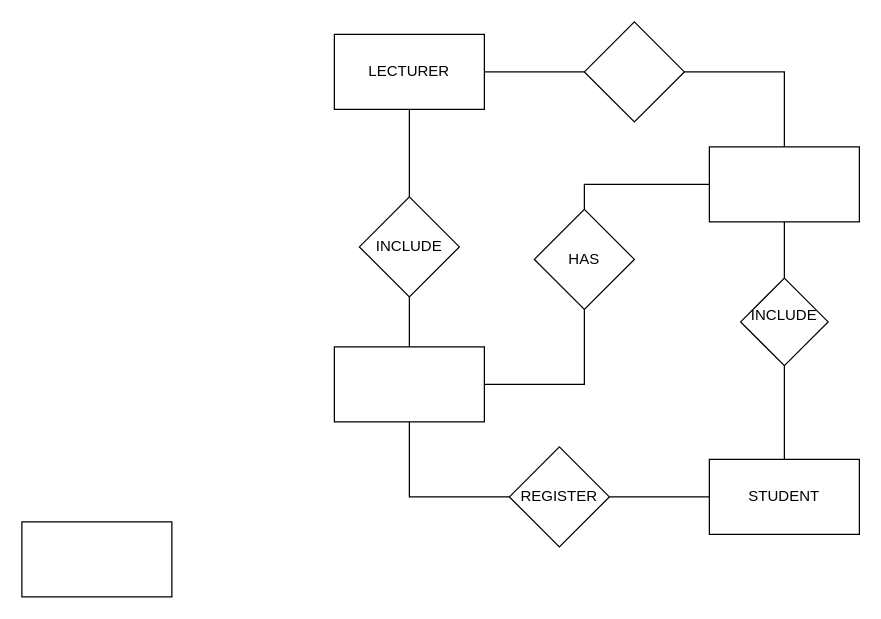
Some shapes in this 881 by 619 pixel diagram are drawn without their labels. The box of each missing label's shape, as (x1, y1, x2, y2) in pixels:
COUSE: (333, 346, 484, 422)
DEPARTMENT: (708, 146, 859, 222)
WORKS_FOR: (583, 21, 684, 122)
